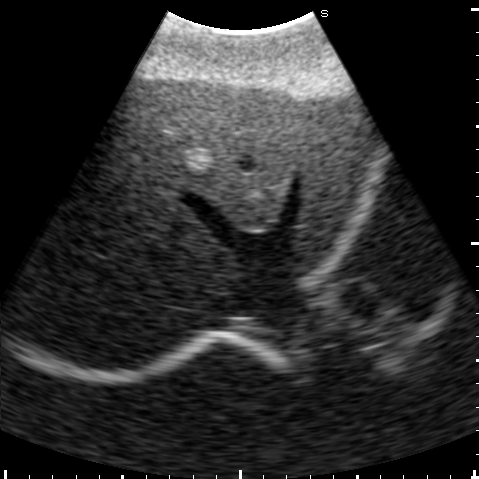S2: (294, 95, 376, 272)
S4: (111, 79, 304, 233)
S7: (30, 235, 189, 372)
S8: (79, 162, 241, 292)
Tumor: (182, 147, 211, 173)
